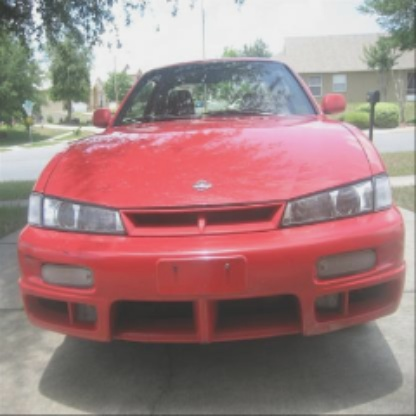Vehicle: (16, 60, 408, 346)
